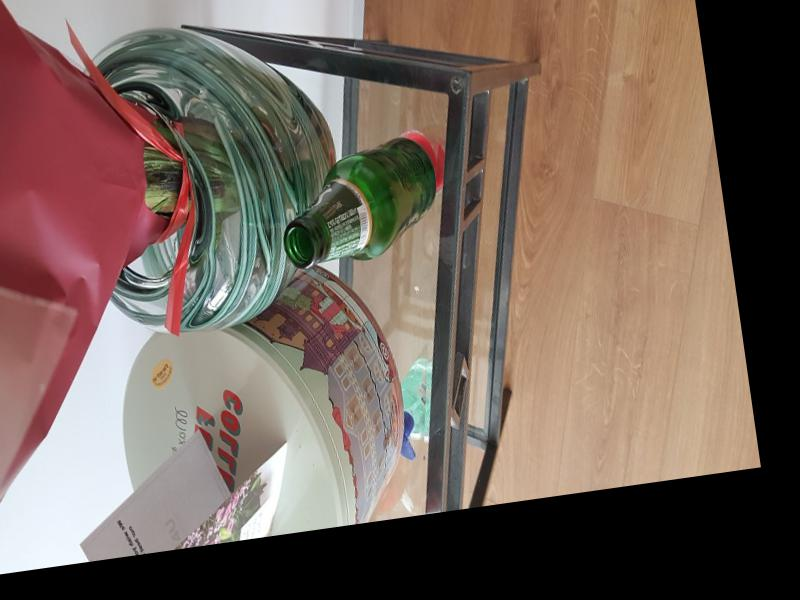Beer: (272, 132, 445, 272)
